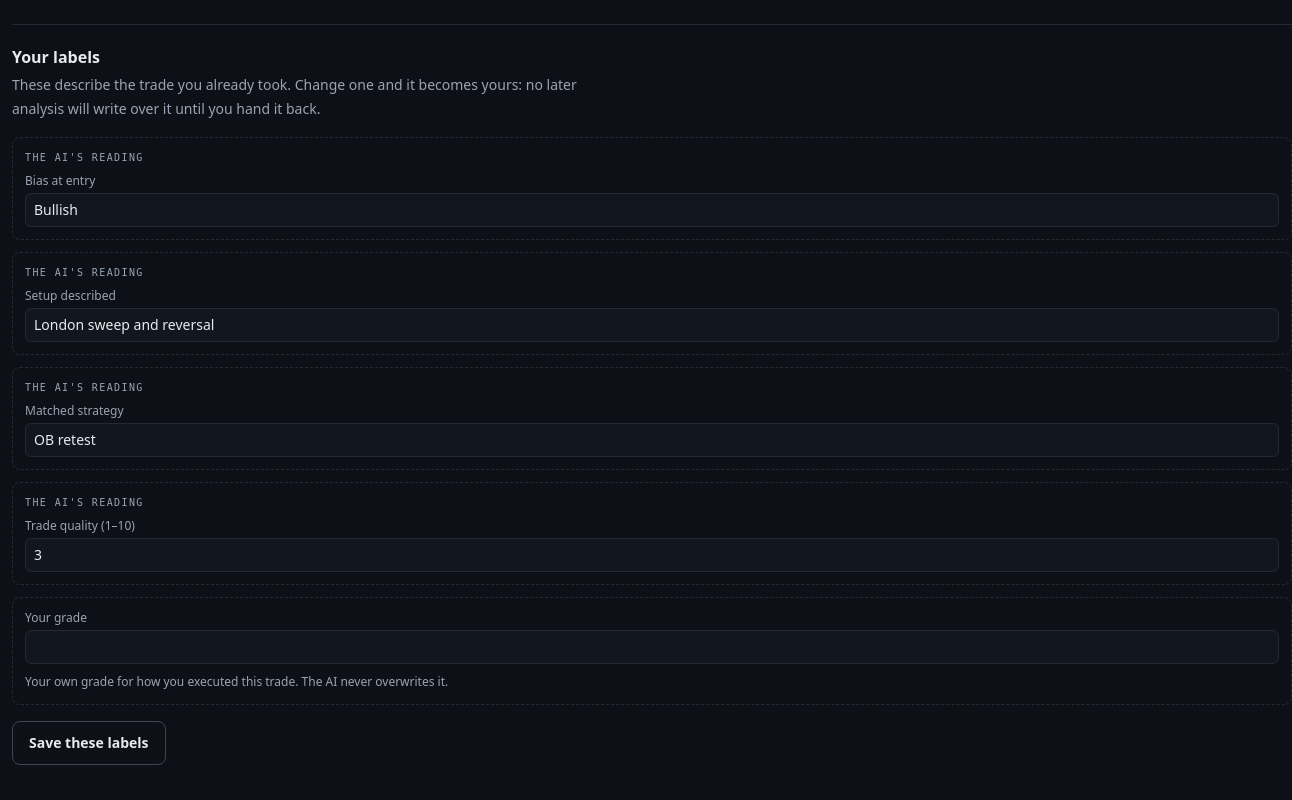
it: AILabelReview — clearing a label › says blanking is unsupported rather than claiming nothing changed
The width and height of the screenshot is (1292, 800).
Clear the field labelled "Bias at entry" at (652, 210), box [25,193,1279,227]
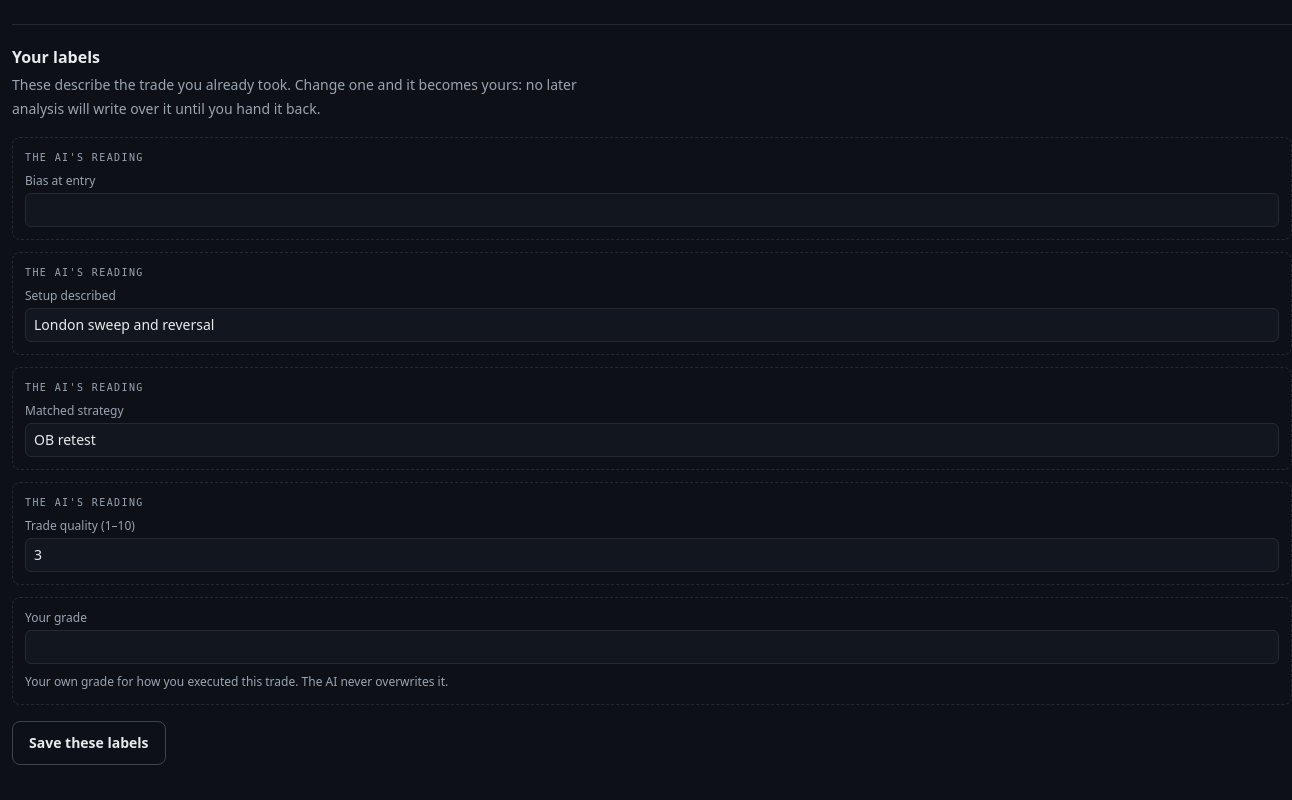
Click the button "Save these labels" at (89, 743), box [12,721,166,765]
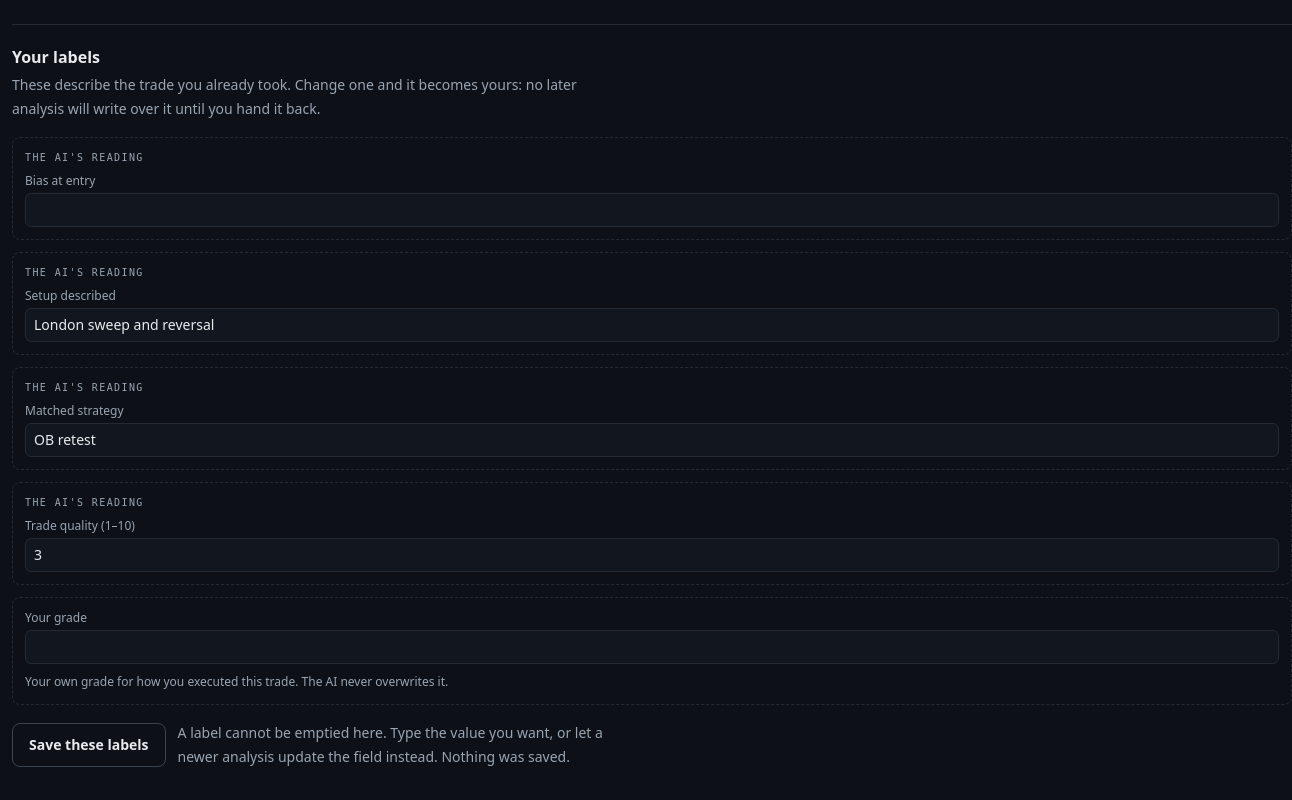
Expected: the text "cannot be emptied here" is shown, [178,723,603,766]
